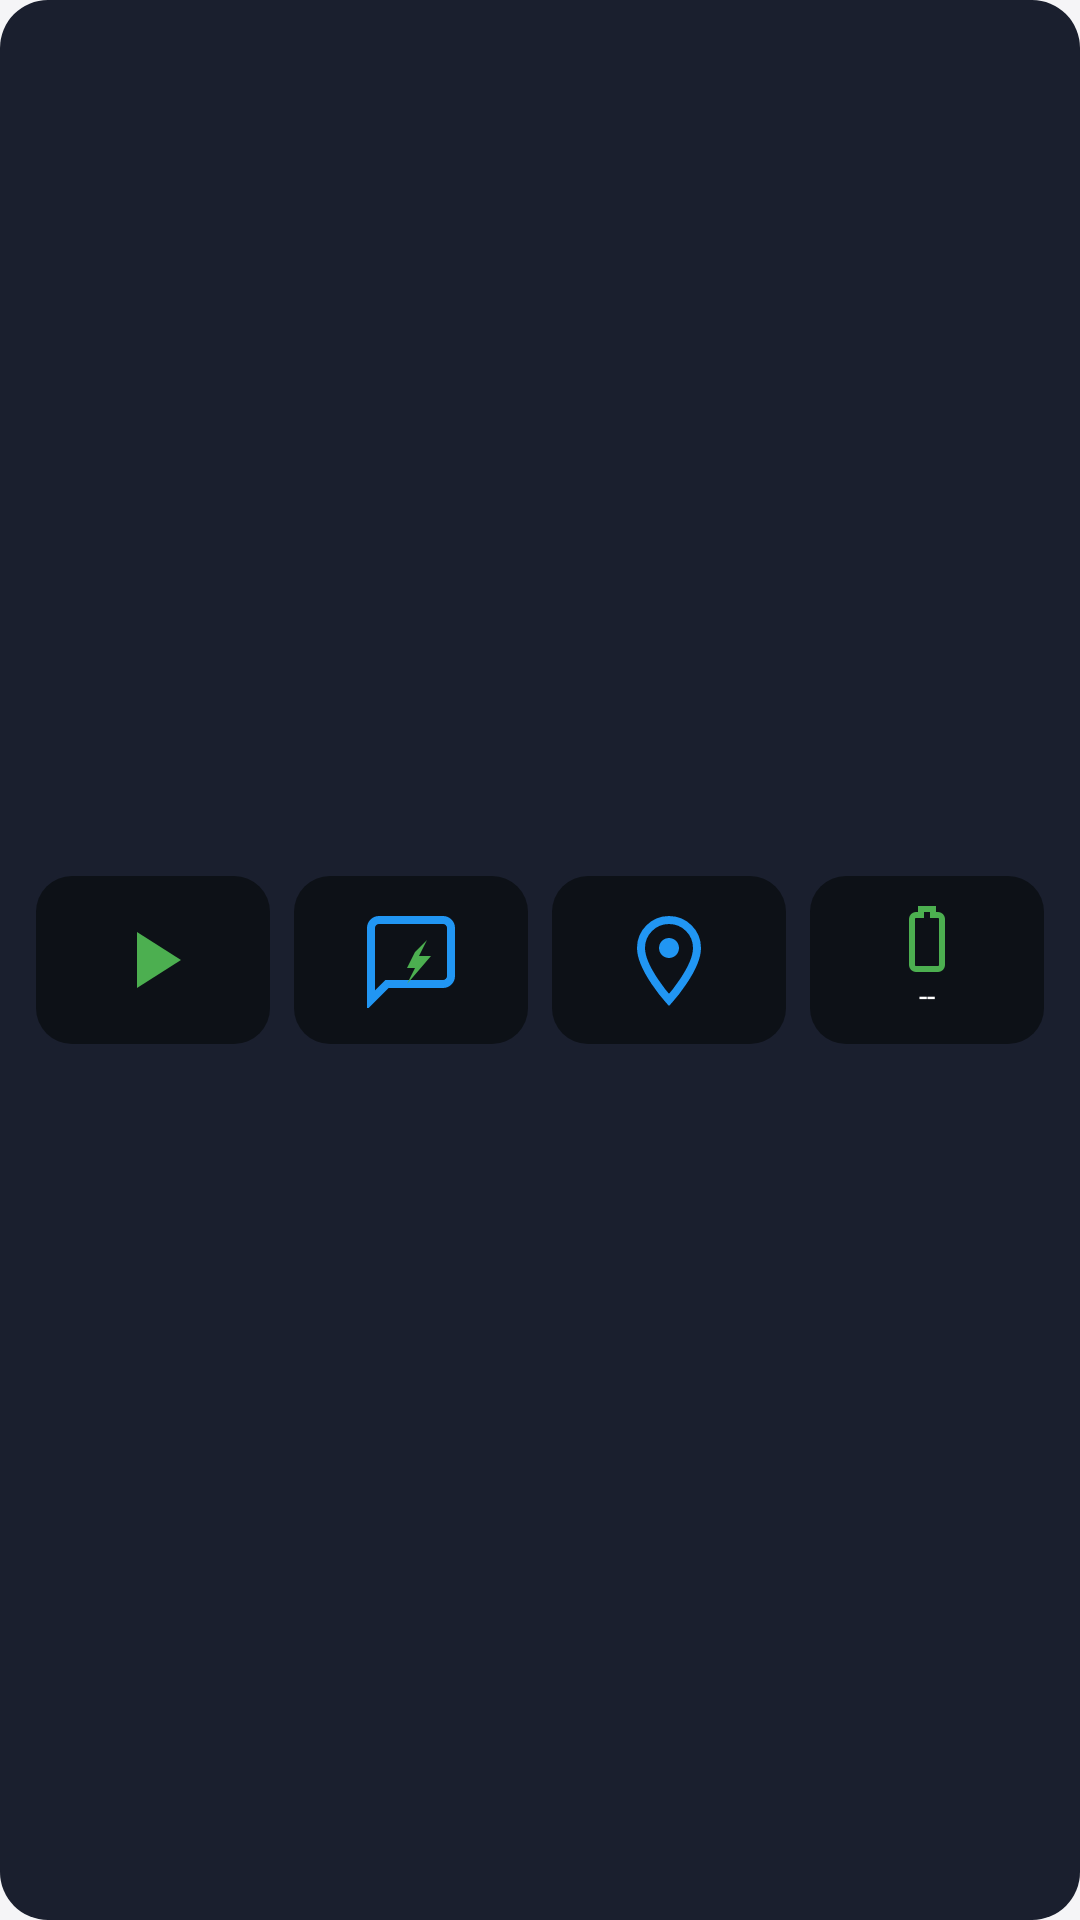

Screen size 1080x1920. Icon name, then its center in pixels as [x,y]:
widget battery: [927,939]
widget geo: [669,960]
widget messengers: [411,960]
widget play: [159,960]
